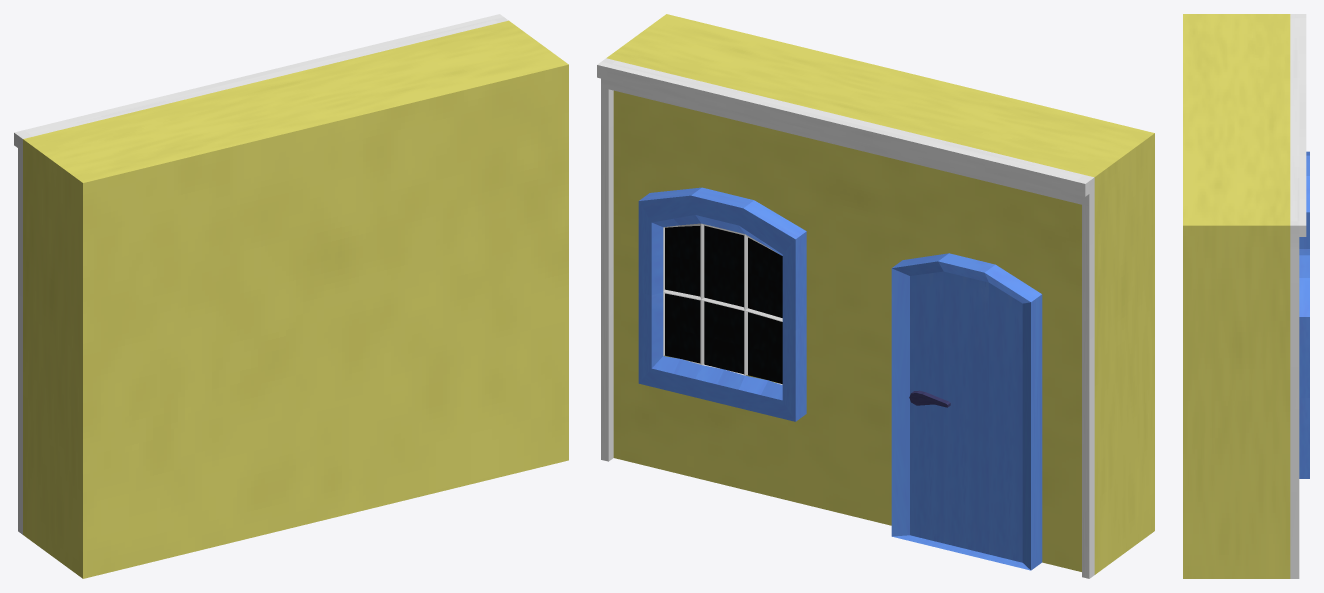
File: casaflo2.gltf
3 renders of one model, left to right at view 1: azimuth 30°, elevation 25°; view 2: azimuth 150°, elevation 25°; view 3: azimuth 270°, elevation 25°, orthographic. The views are drawn at different scales.
Parts seen in each view (by area): view 1: cuboid; view 2: cuboid (×3); view 3: cuboid (×3).
Part boxes in pixels (x1=…): cuboid: x1=14, y1=14, x2=568, y2=578; cuboid (×3): x1=597, y1=14, x2=1154, y2=578; cuboid (×3): x1=1183, y1=14, x2=1309, y2=578.
Size of the model in its own units: 1.75 by 1.36 by 0.4438.
Materials: 1 (1 with a texture image).
